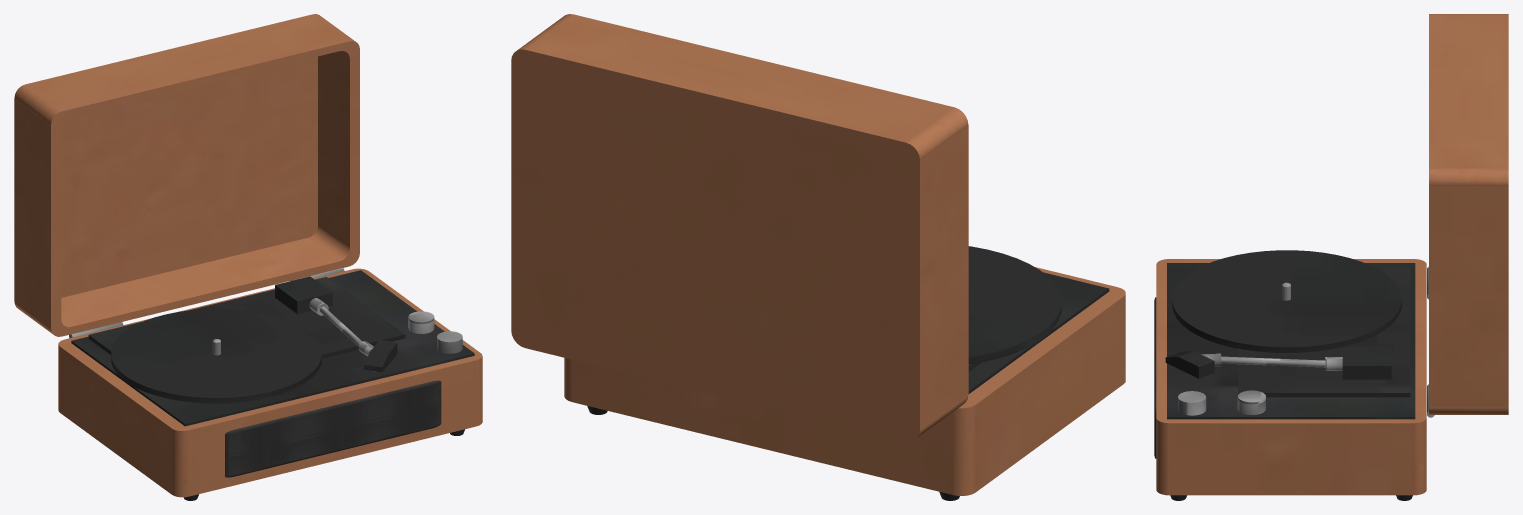
Rendered from d_tocadiscos_maleta.glb.
3 renders of one model, left to right at view 1: azimuth 30°, elevation 25°; view 2: azimuth 150°, elevation 25°; view 3: azimuth 270°, elevation 25°, orthographic. The views are drawn at different scales.
Parts seen in each view (by area): view 1: pCone1_steel_0; view 2: pCone1_steel_0; view 3: pCone1_steel_0.
Part boxes in pixels (bbox=[...]): pCone1_steel_0: bbox=[14, 14, 482, 500]; pCone1_steel_0: bbox=[511, 14, 1125, 500]; pCone1_steel_0: bbox=[1154, 14, 1508, 500].
Size of the model in its own units: 0.2124 by 0.2 by 0.1925.
4 materials, 4 textured.
